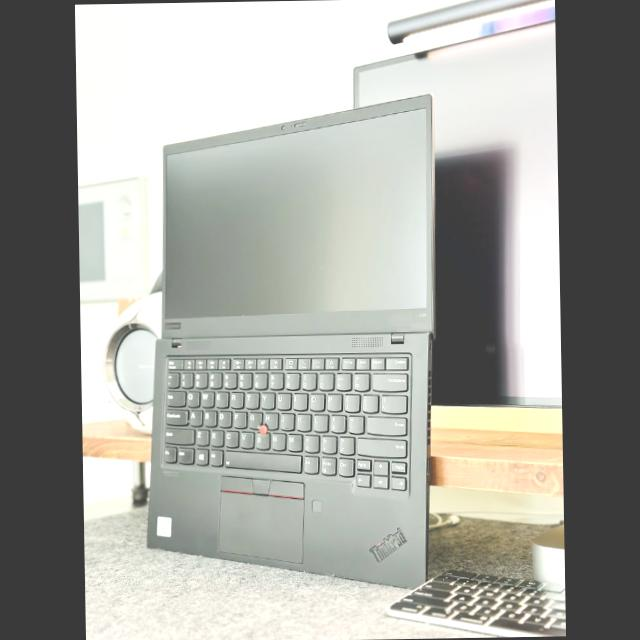laptop: (147, 94, 434, 586)
